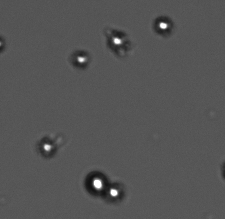Dead Cell: (118, 41, 135, 59)
Living Cell: (84, 171, 108, 198), (68, 48, 93, 69), (152, 14, 174, 37), (37, 136, 60, 157), (107, 28, 126, 47), (107, 181, 123, 203), (1, 35, 7, 52)
